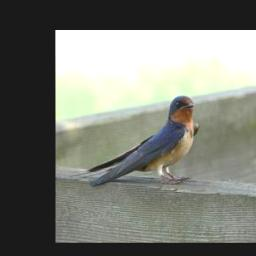Swallow: (67, 93, 201, 189)
